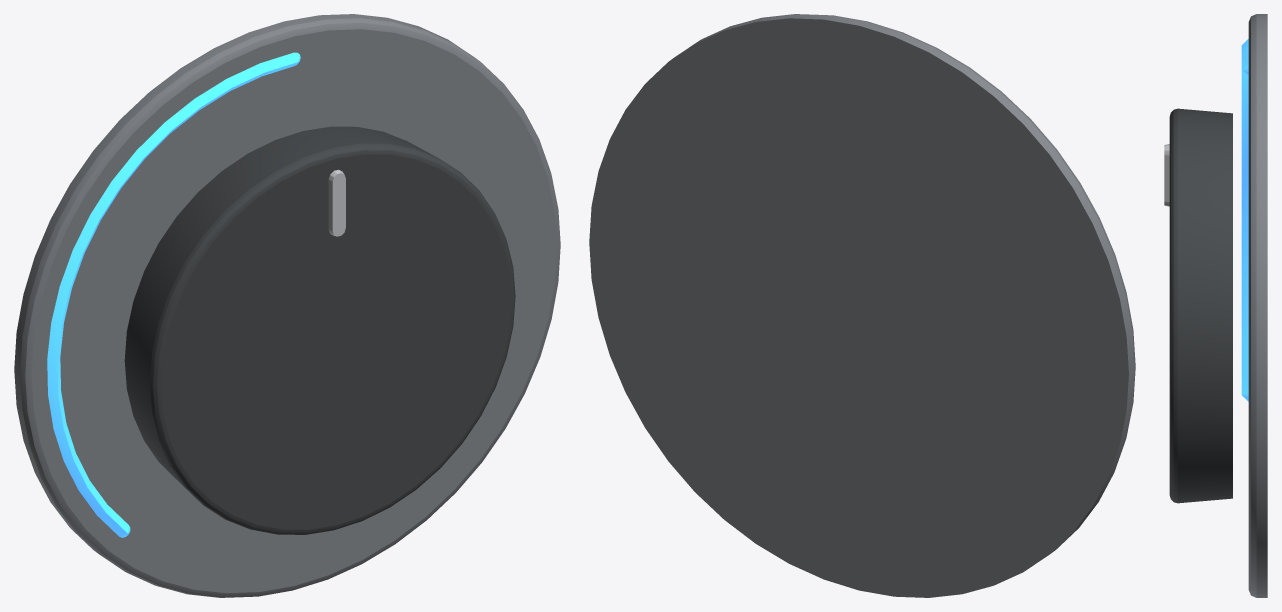
Rendered from rotary-dial-981a5a.glb.
The picture shows the model from 3 angles, left to right: view 1: azimuth 30°, elevation 25°; view 2: azimuth 150°, elevation 25°; view 3: azimuth 270°, elevation 25°; orthographic projection. The views are drawn at different scales.
Parts seen in each view (by area): view 1: dial, dial-glow; view 2: dial; view 3: dial, dial-glow.
Part boxes in pixels (x1,y1,x2,y2): dial: (14, 14, 560, 597); dial-glow: (47, 52, 300, 537); dial: (589, 14, 1135, 597); dial: (1164, 14, 1267, 597); dial-glow: (1241, 39, 1248, 401).
Size of the model in its own units: 0.074 by 0.074 by 0.0131.
